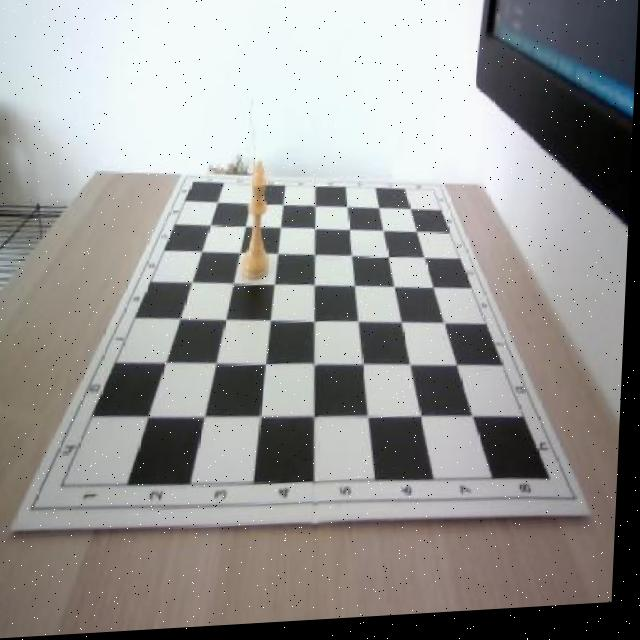white-bishop: (246, 166, 275, 284)
